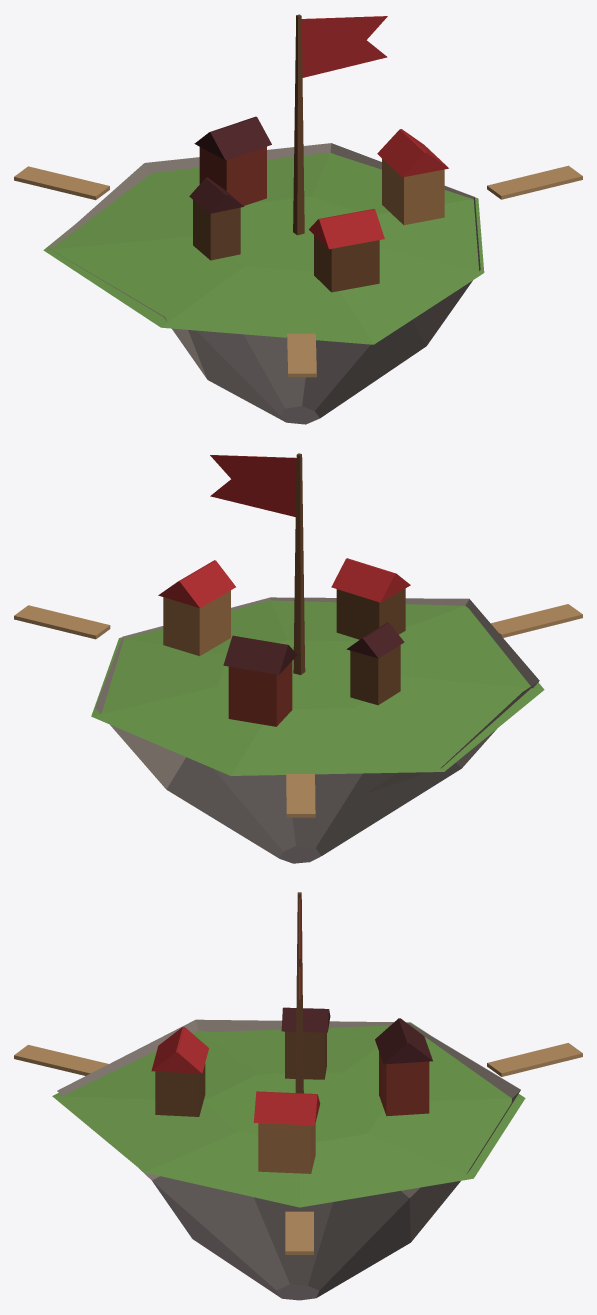
File: SM_Env_FreeHaven_LQ.glb
The picture shows the model from 3 angles, top to bottom: view 1: azimuth 30°, elevation 25°; view 2: azimuth 150°, elevation 25°; view 3: azimuth 270°, elevation 25°; orthographic projection.
Visible parts, largest first — view 1: SM_Env_FreeHaven_LQ; view 2: SM_Env_FreeHaven_LQ; view 3: SM_Env_FreeHaven_LQ.
Part boxes in pixels (x1,y1,x2,y2): SM_Env_FreeHaven_LQ: [14, 14, 582, 424]; SM_Env_FreeHaven_LQ: [14, 453, 582, 863]; SM_Env_FreeHaven_LQ: [14, 892, 582, 1300].
Bounding box in the file's own units: 26.87 × 21.5 × 27.76.
1 material, 1 textured.
